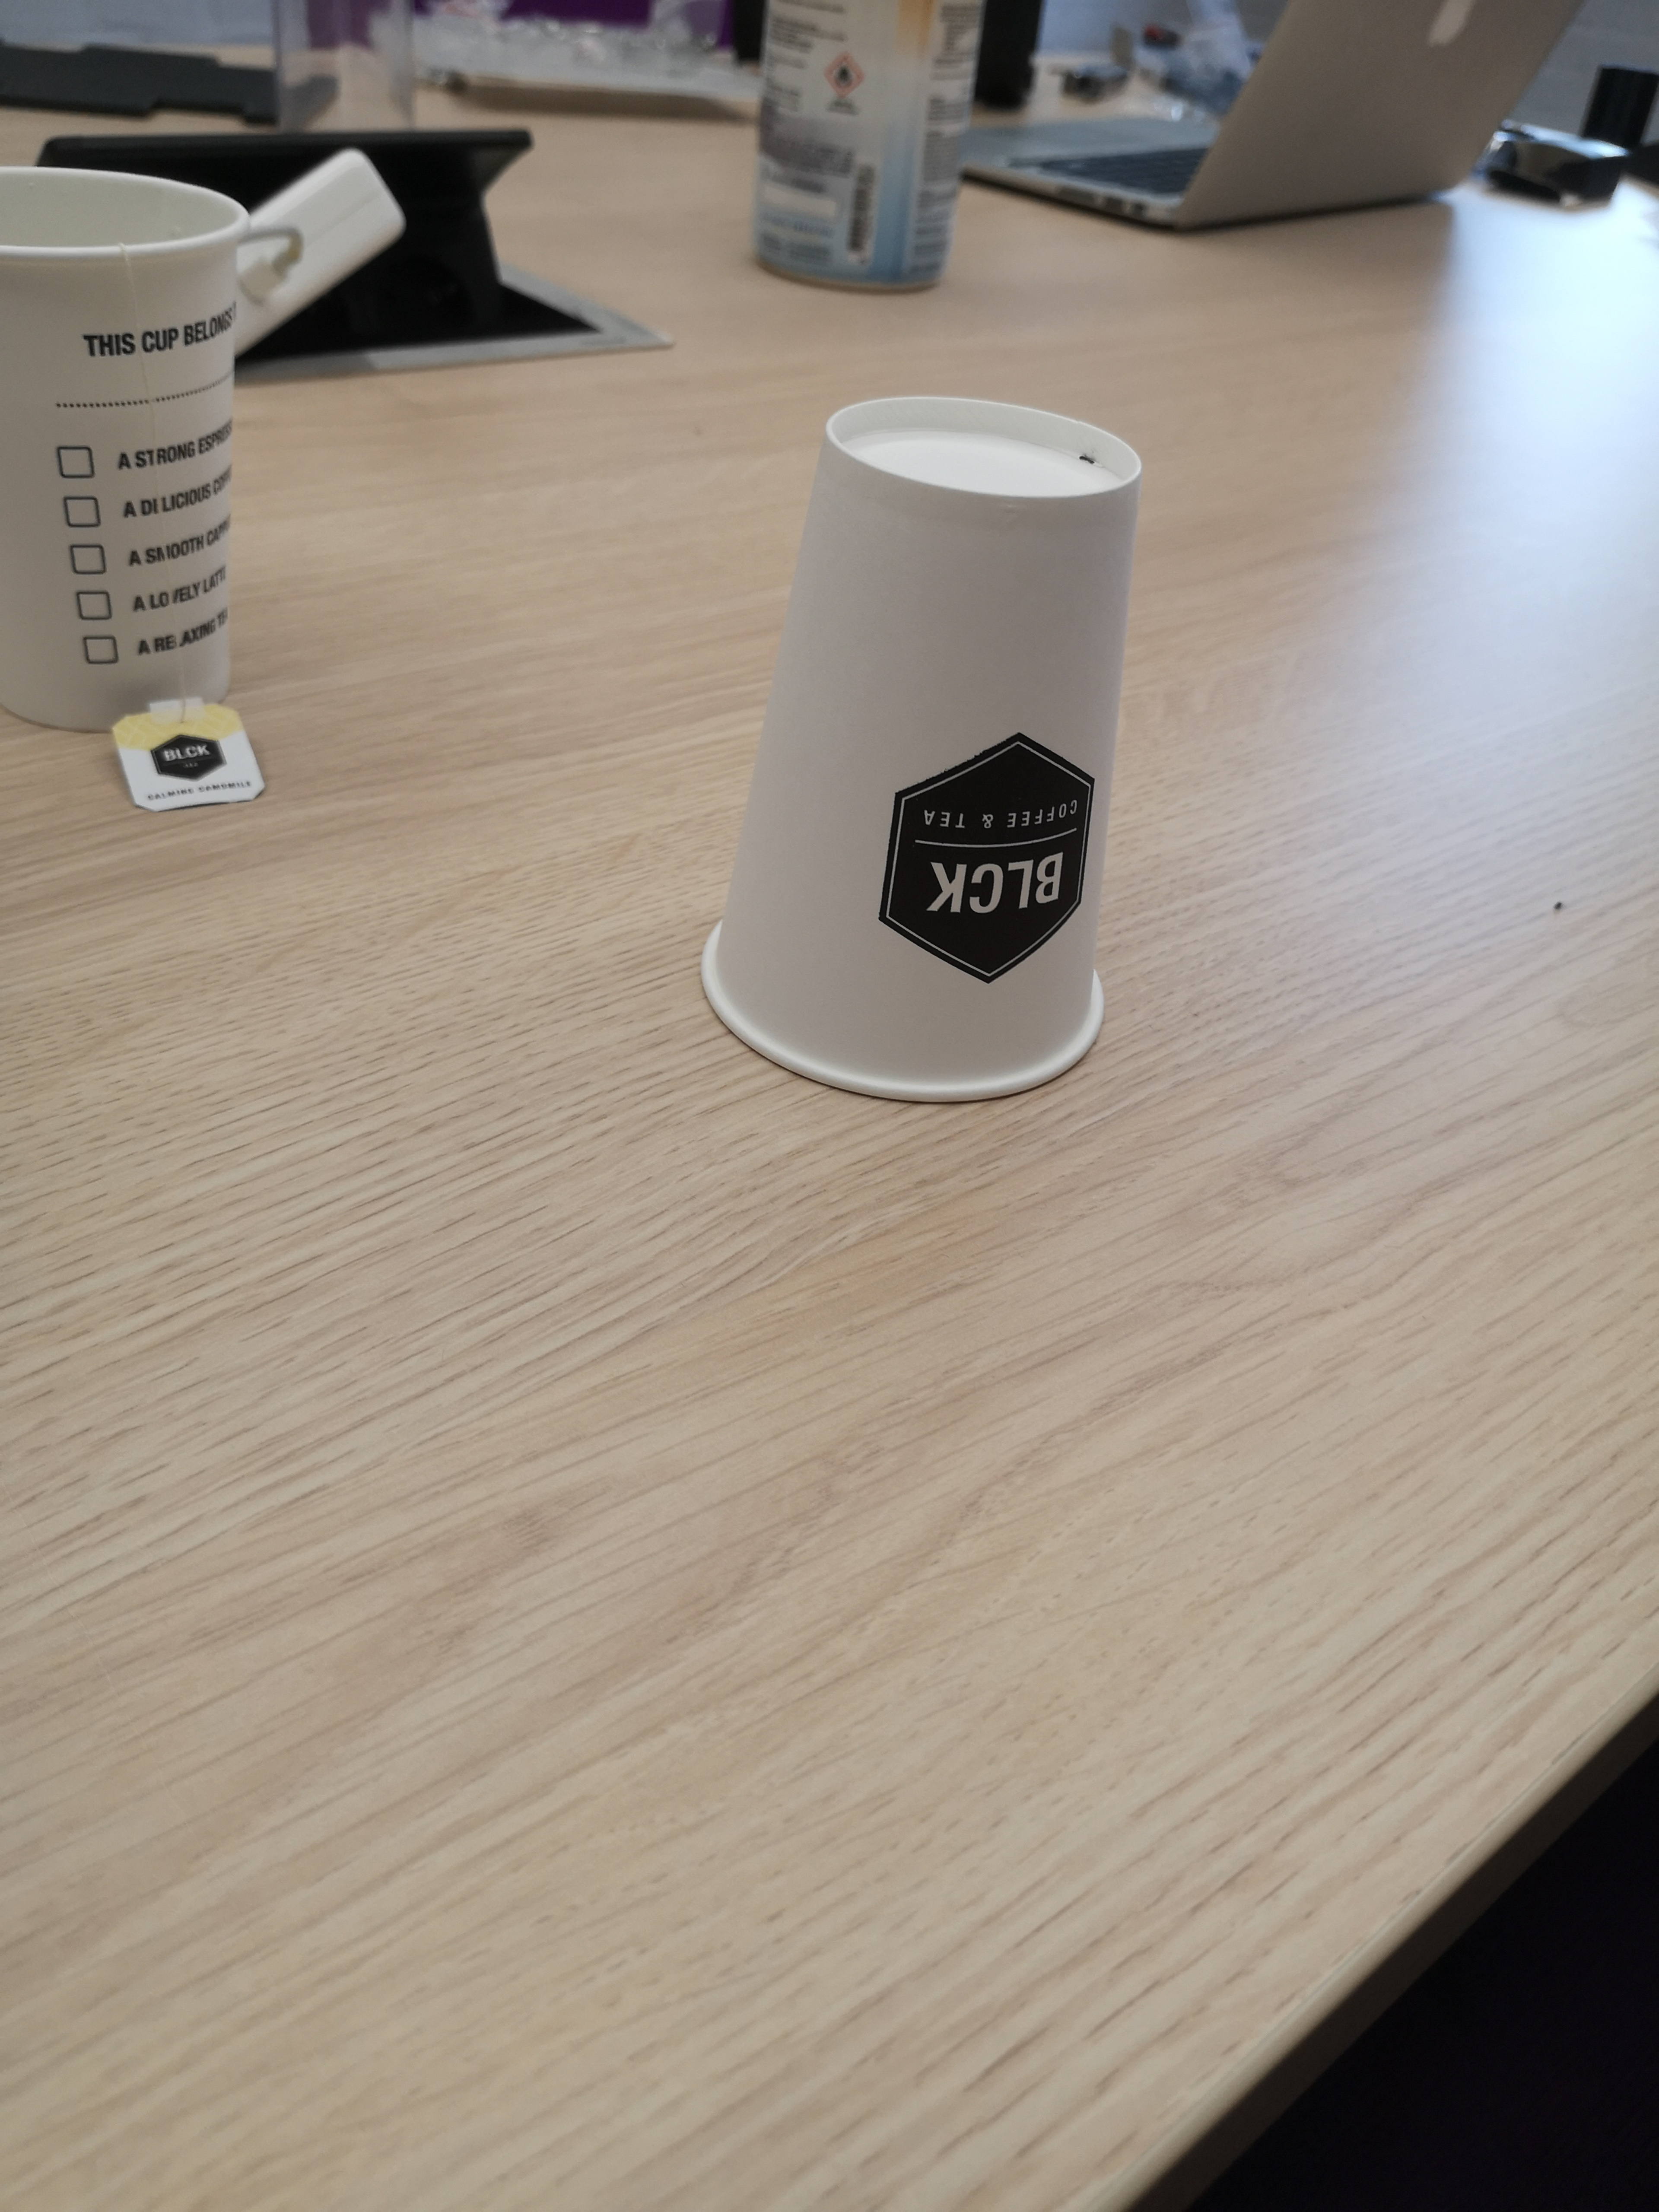cup: (664, 364, 1211, 1134), (0, 160, 247, 752)
